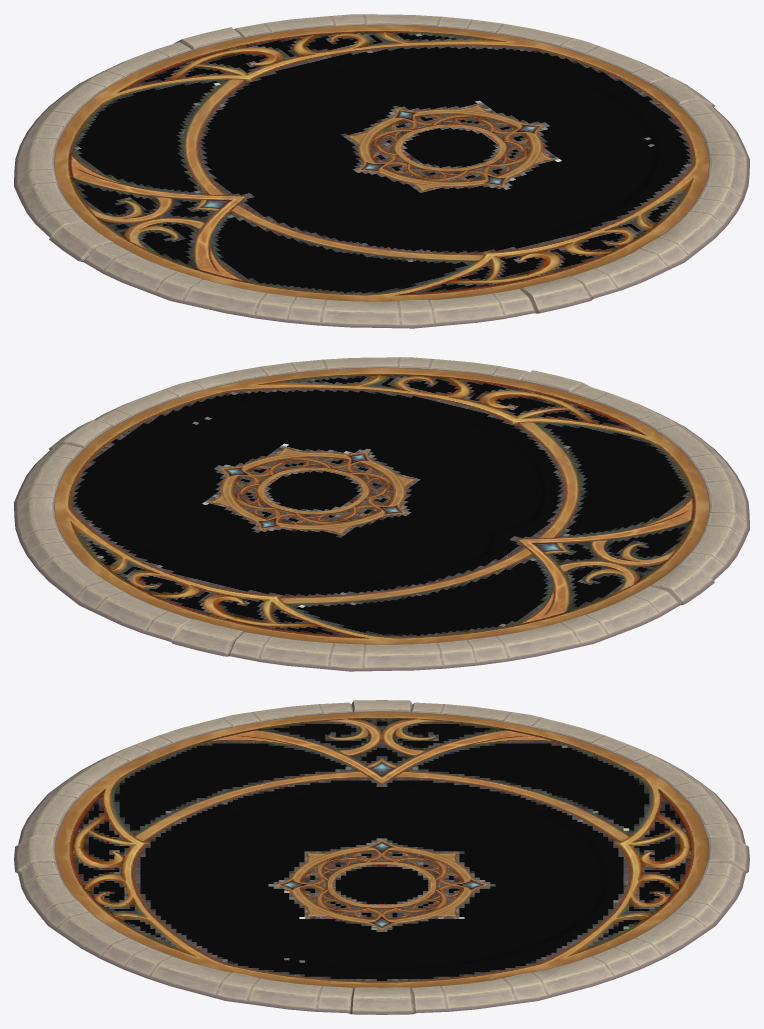
Rendered from platform.glb.
The picture shows the model from 3 angles, top to bottom: view 1: azimuth 30°, elevation 25°; view 2: azimuth 150°, elevation 25°; view 3: azimuth 270°, elevation 25°; orthographic projection.
Parts seen in each view (by area): view 1: 12be_bloodelf_arcanesanctum_floorcenterpiece_ArcaneSanctum_F (×2); view 2: 12be_bloodelf_arcanesanctum_floorcenterpiece_ArcaneSanctum_F (×2); view 3: 12be_bloodelf_arcanesanctum_floorcenterpiece_ArcaneSanctum_F (×2).
Part boxes in pixels (x1=…): 12be_bloodelf_arcanesanctum_floorcenterpiece_ArcaneSanctum_F (×2): x1=14, y1=14, x2=749, y2=328; 12be_bloodelf_arcanesanctum_floorcenterpiece_ArcaneSanctum_F (×2): x1=14, y1=357, x2=749, y2=671; 12be_bloodelf_arcanesanctum_floorcenterpiece_ArcaneSanctum_F (×2): x1=14, y1=700, x2=749, y2=1014.
Size of the model in its own units: 78.05 by 1.44 by 78.05.
2 materials, 2 textured.
